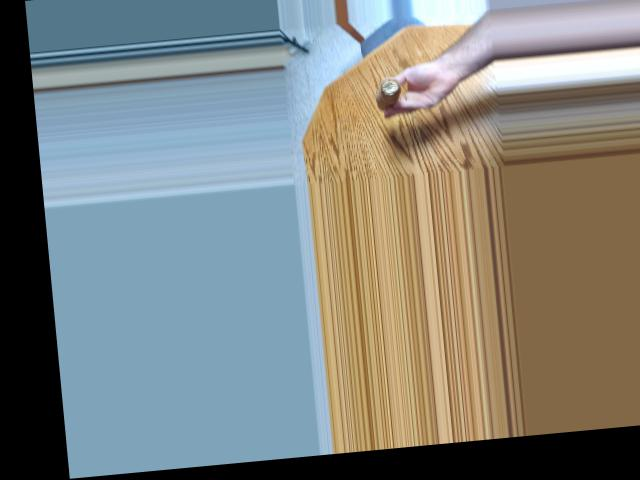sweet_potato: (369, 71, 411, 113)
